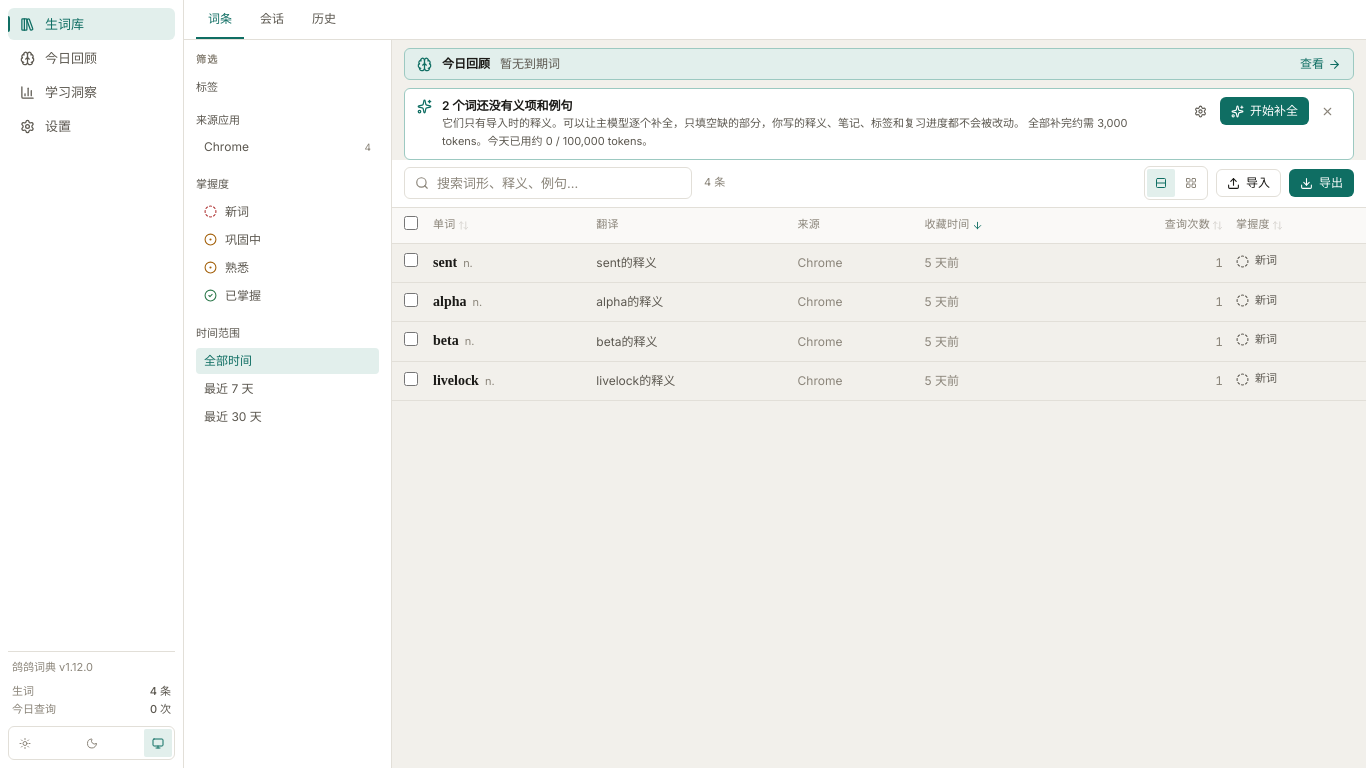
Test: deleting words › does not promise a review that starts again for a sentence, which has none
Expected: the checkbox named "选择 sent" is shown, [404,253,418,267]
Click the button "sent n.": (453, 263) [429,248,477,278]
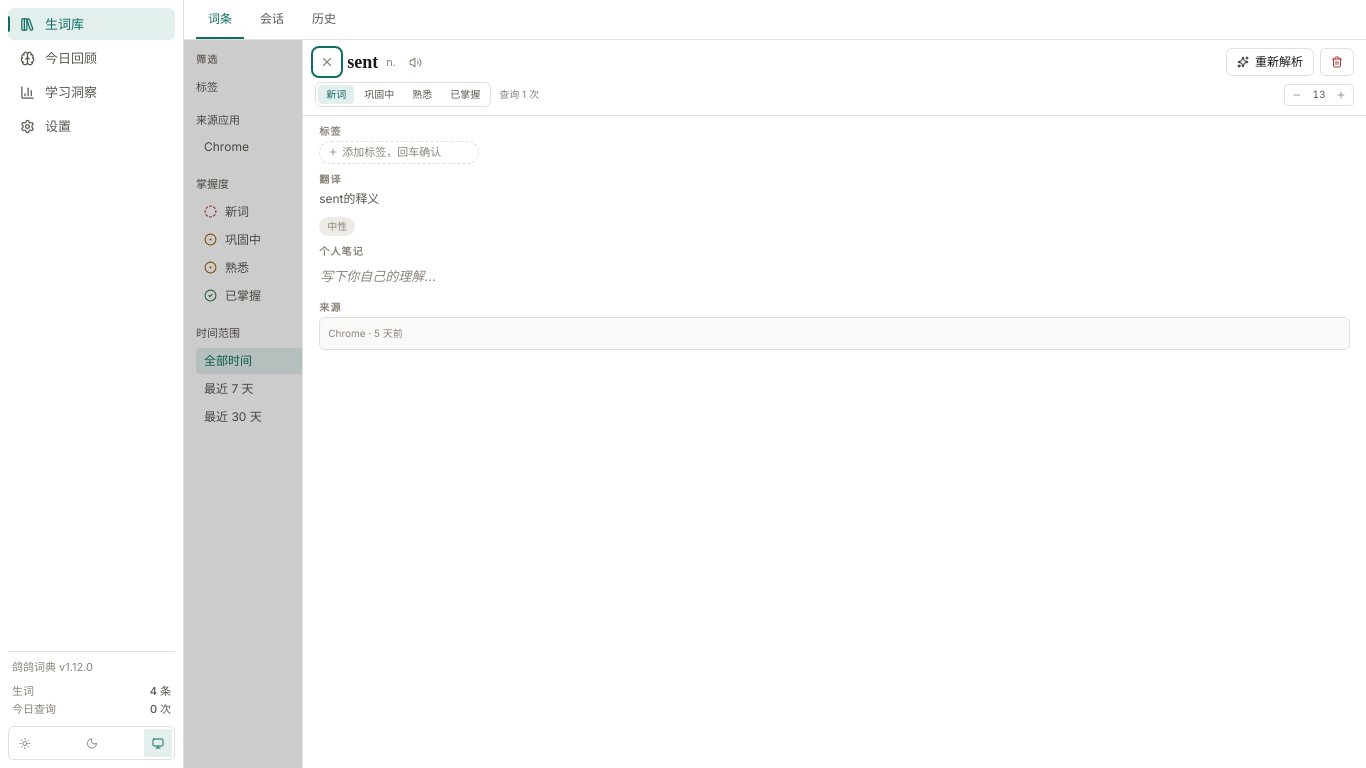
Click the button named "删除该生词": (1337, 62) [1320,48,1354,76]
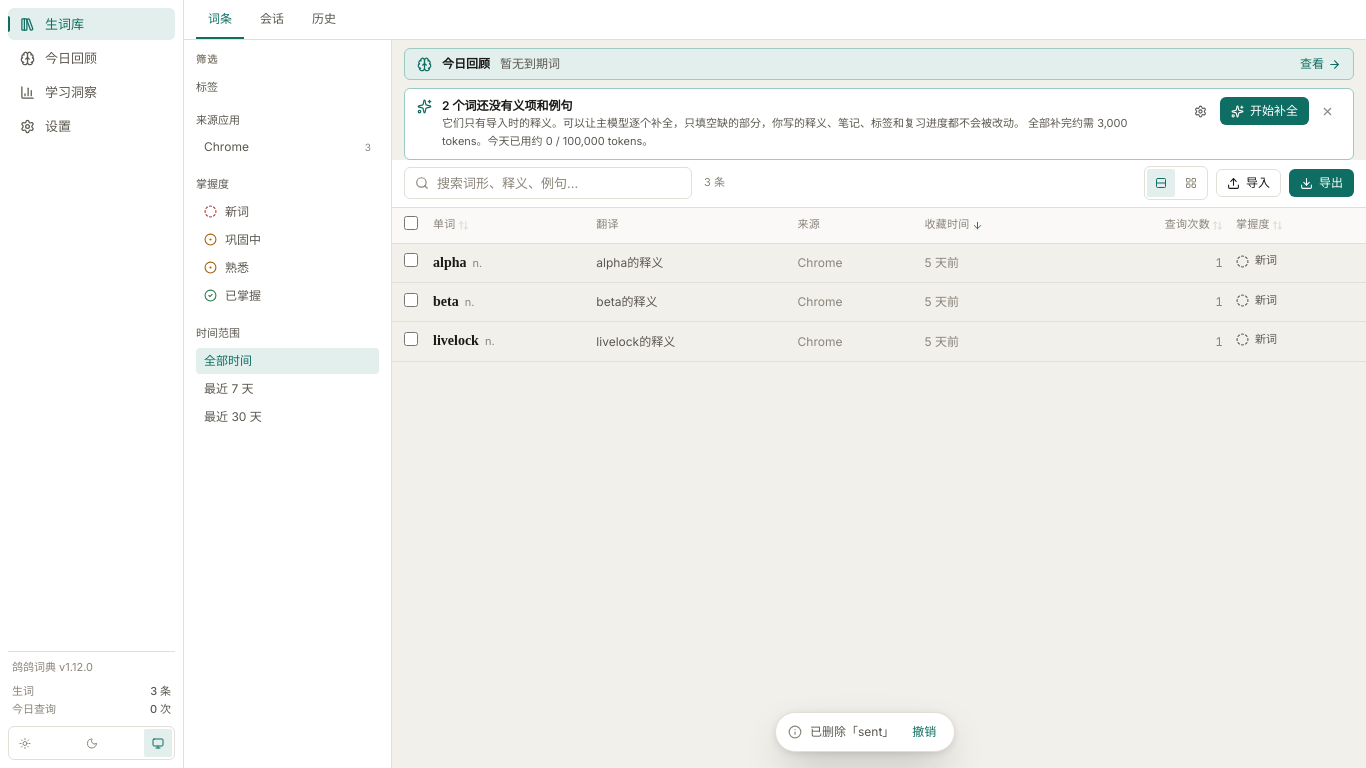
Click the button "撤销": (924, 732) [902,719,946,745]
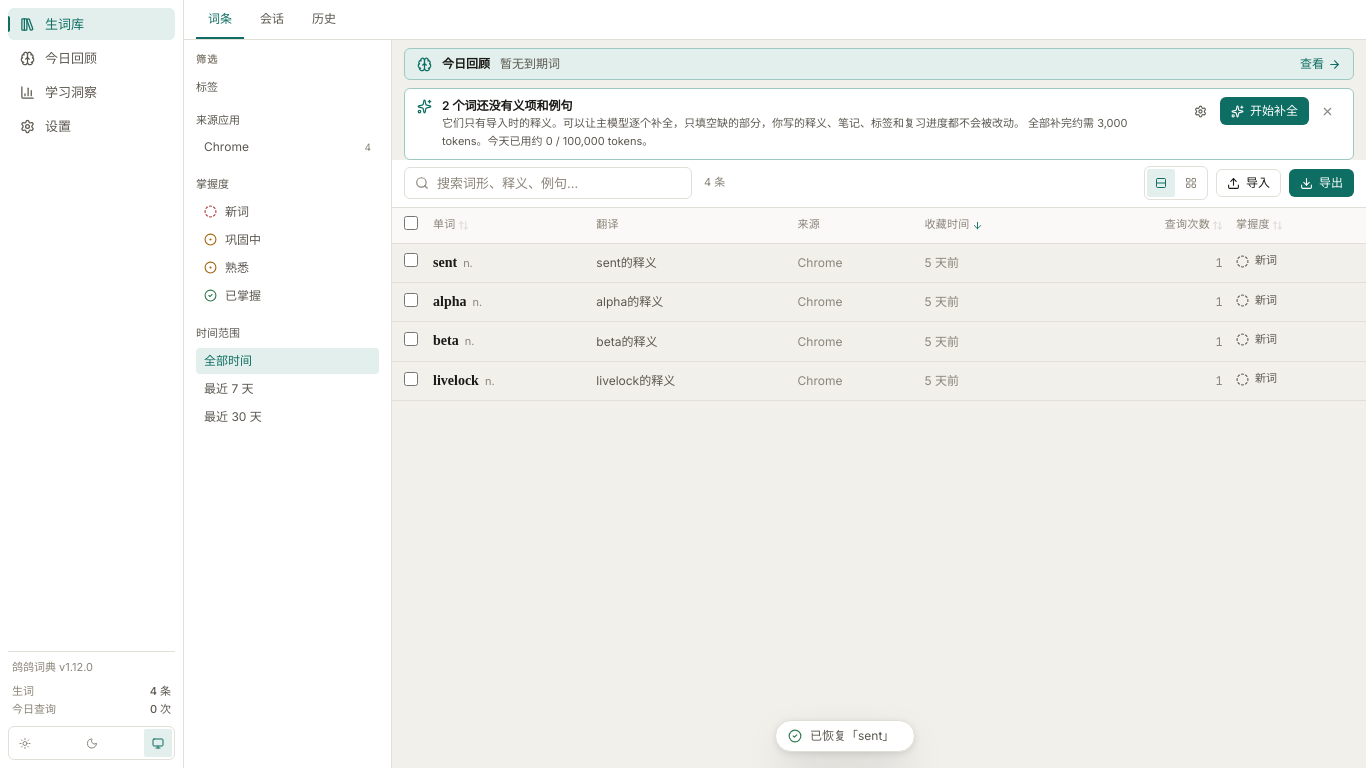
Expected: the text "已恢复「sent」" is shown, [810,727,894,745]
